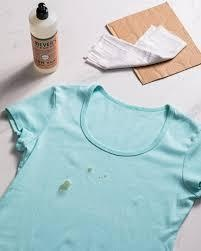oil: (57, 177, 73, 194), (85, 163, 96, 172), (96, 175, 109, 181)
